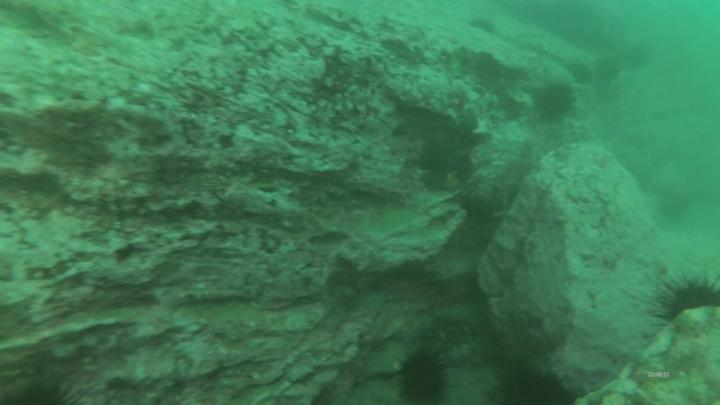echinus: (651, 266, 720, 338), (485, 363, 580, 405), (395, 347, 453, 405), (536, 79, 579, 126), (593, 54, 624, 86), (565, 62, 595, 88), (467, 15, 500, 36)
holothurian: (399, 303, 489, 356), (439, 334, 508, 370)
